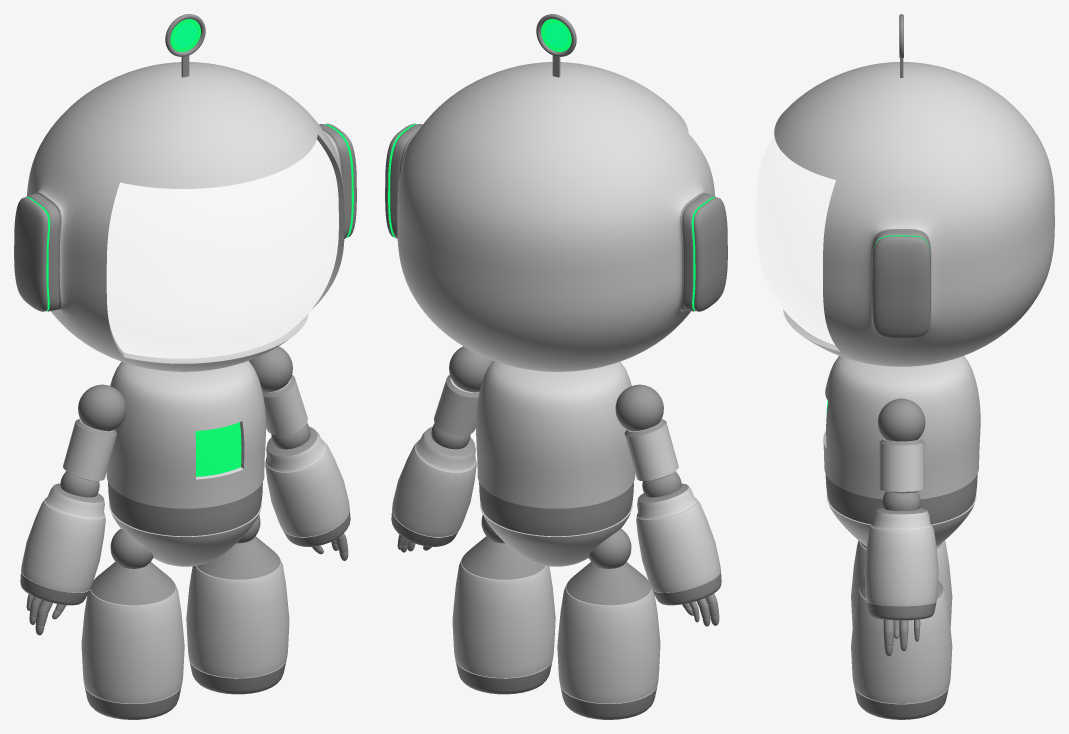
Rendered from miniRobot.glb.
The picture shows the model from 3 angles, left to right: view 1: azimuth 30°, elevation 25°; view 2: azimuth 150°, elevation 25°; view 3: azimuth 270°, elevation 25°; orthographic projection. The views are drawn at different scales.
Parts seen in each view (by area): view 1: Robot; view 2: Robot; view 3: Robot.
Boxes of the visible parts, bbox=[...] form: Robot: bbox=[14, 14, 356, 719]; Robot: bbox=[385, 14, 727, 719]; Robot: bbox=[756, 14, 1054, 719].
Size of the model in its own units: 2.37 by 4.74 by 1.94.
